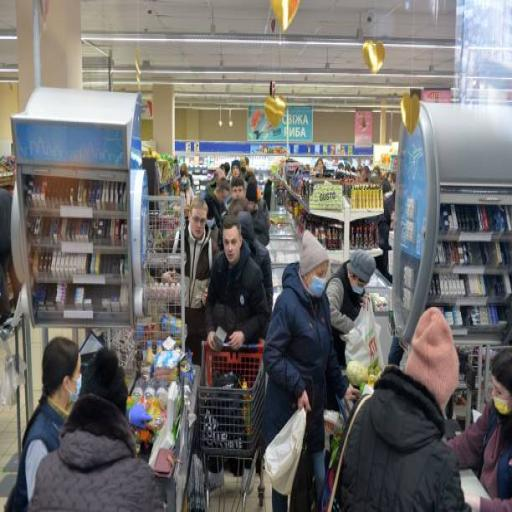shopping_cart: (195, 335, 266, 512)
